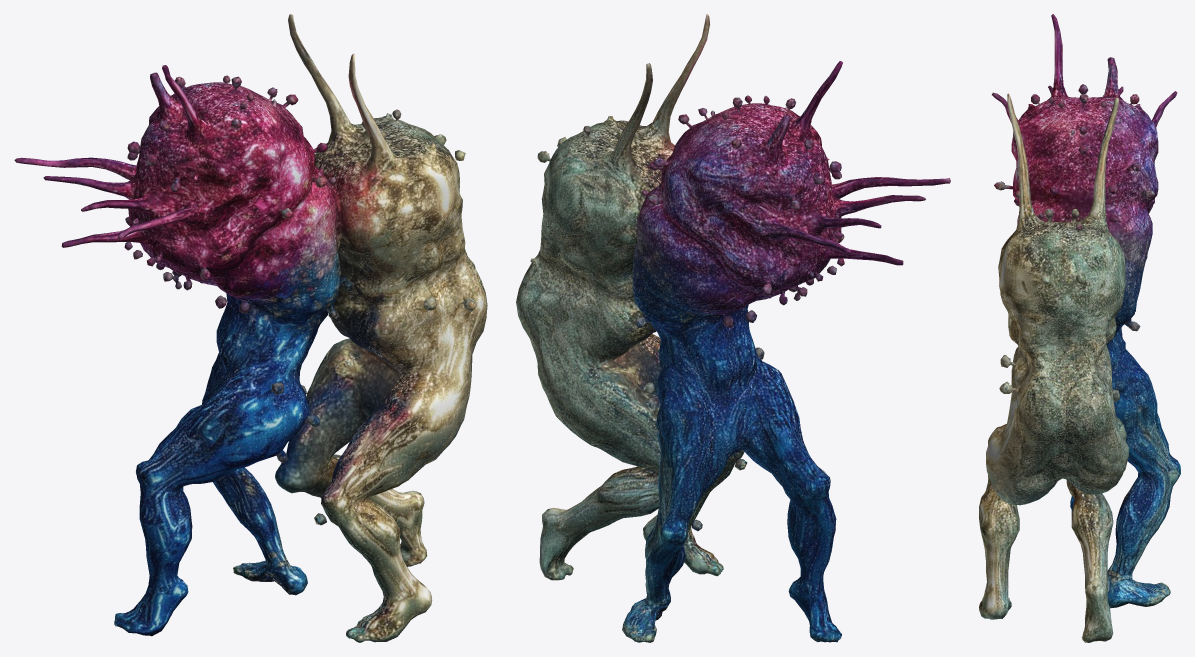
Rendered from duo.glb.
3 renders of one model, left to right at view 1: azimuth 30°, elevation 25°; view 2: azimuth 150°, elevation 25°; view 3: azimuth 270°, elevation 25°, orthographic. The views are drawn at different scales.
Visible parts, largest first — view 1: tripo_node_f9d9a949-6c6c-4ccc-988e-5fb6d1ddfbbb; view 2: tripo_node_f9d9a949-6c6c-4ccc-988e-5fb6d1ddfbbb; view 3: tripo_node_f9d9a949-6c6c-4ccc-988e-5fb6d1ddfbbb.
Part boxes in pixels (x1,y1,x2,y2): tripo_node_f9d9a949-6c6c-4ccc-988e-5fb6d1ddfbbb: (14,14,487,642); tripo_node_f9d9a949-6c6c-4ccc-988e-5fb6d1ddfbbb: (516,14,950,642); tripo_node_f9d9a949-6c6c-4ccc-988e-5fb6d1ddfbbb: (979,14,1180,642).
Bounding box in the file's own units: 0.6944 × 0.9775 × 0.3424.
1 material, 1 textured.
